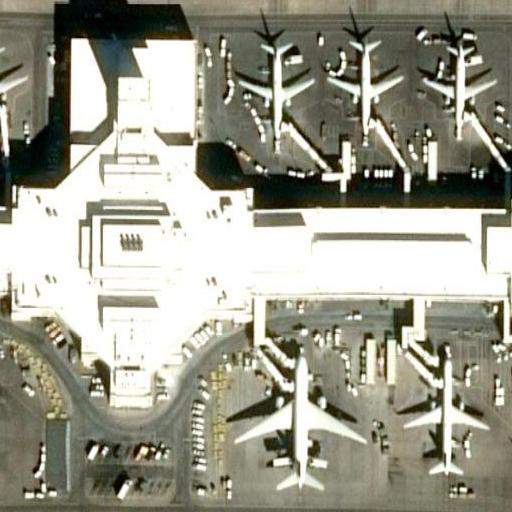Aircraft: (229, 349, 371, 491), (226, 24, 320, 146), (403, 355, 487, 480), (325, 25, 411, 140), (417, 34, 497, 137), (0, 31, 27, 130)
